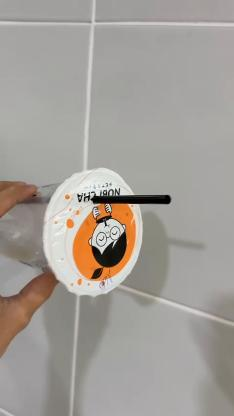Plastic Cup: (0, 172, 146, 292)
